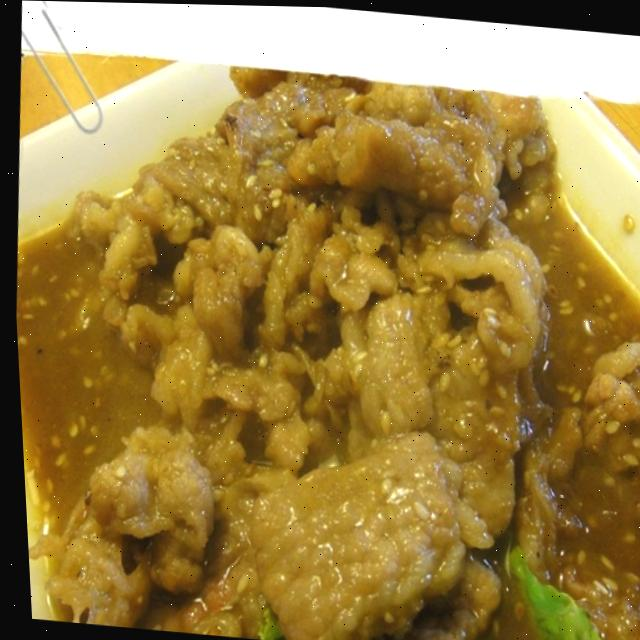牛肉菜式: (3, 69, 640, 640)
